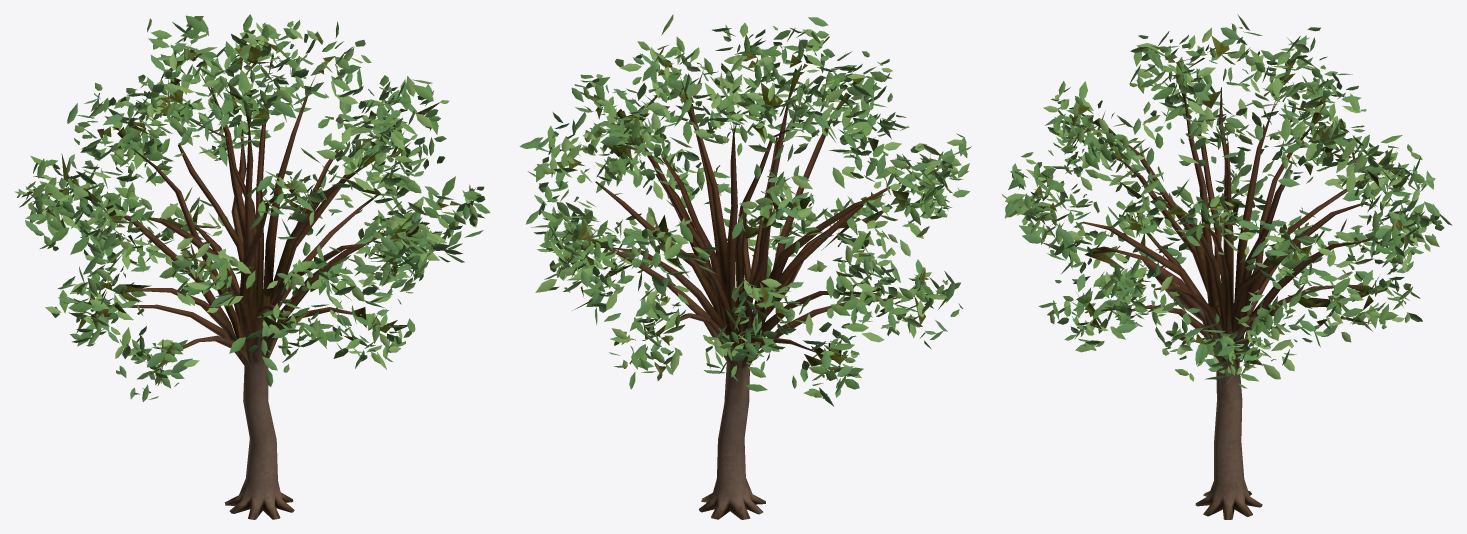
The model's file is tree.glb.
3 views of the same model, side by side, from view 1: azimuth 30°, elevation 25°; view 2: azimuth 150°, elevation 25°; view 3: azimuth 270°, elevation 25° (orthographic). The views are drawn at different scales.
Parts seen in each view (by area): view 1: Ficus foliage, tripo_node_ed17c873-62ef-46e1-be87-2acbe32c4775; view 2: Ficus foliage, tripo_node_ed17c873-62ef-46e1-be87-2acbe32c4775; view 3: Ficus foliage, tripo_node_ed17c873-62ef-46e1-be87-2acbe32c4775.
Part boxes in pixels (x1,y1,x2,y2): Ficus foliage: [14, 14, 490, 401]; tripo_node_ed17c873-62ef-46e1-be87-2acbe32c4775: [43, 39, 462, 519]; Ficus foliage: [519, 14, 971, 406]; tripo_node_ed17c873-62ef-46e1-be87-2acbe32c4775: [551, 50, 938, 519]; Ficus foliage: [1002, 14, 1452, 388]; tripo_node_ed17c873-62ef-46e1-be87-2acbe32c4775: [1024, 35, 1420, 519].
Size of the model in its own units: 5.96 by 6.83 by 6.16.
Materials: 5 (1 with a texture image).
